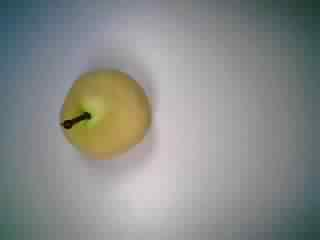pear: (45, 60, 154, 162)
